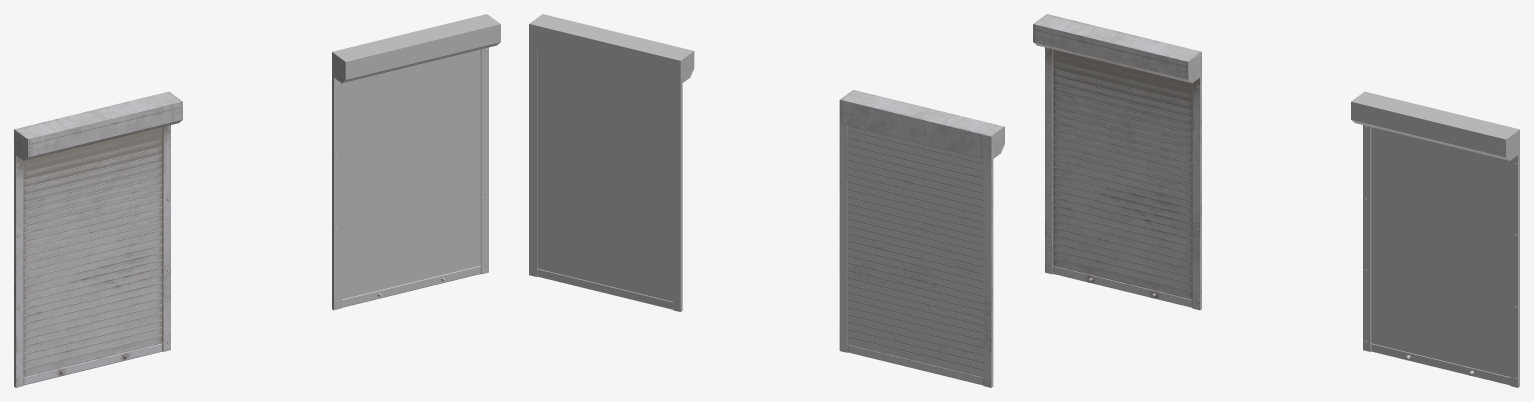
The model's file is rollershutter_window_03_2k.fbx.
3 views of the same model, side by side, from view 1: azimuth 30°, elevation 25°; view 2: azimuth 150°, elevation 25°; view 3: azimuth 330°, elevation 25° (orthographic). The views are drawn at different scales.
Parts seen in each view (by area): view 1: rollershutter_window_03_graffiti, rollershutter_window_03; view 2: rollershutter_window_03, rollershutter_window_03_graffiti; view 3: rollershutter_window_03, rollershutter_window_03_graffiti.
Part boxes in pixels (box(x1,y1,x2,y2)): rollershutter_window_03_graffiti: box(332, 14, 500, 310); rollershutter_window_03: box(14, 91, 182, 387); rollershutter_window_03: box(839, 90, 1004, 387); rollershutter_window_03_graffiti: box(529, 14, 694, 311); rollershutter_window_03: box(1033, 14, 1201, 310); rollershutter_window_03_graffiti: box(1351, 91, 1519, 387).
Size of the model in its own units: 298 by 155 by 15.31.
